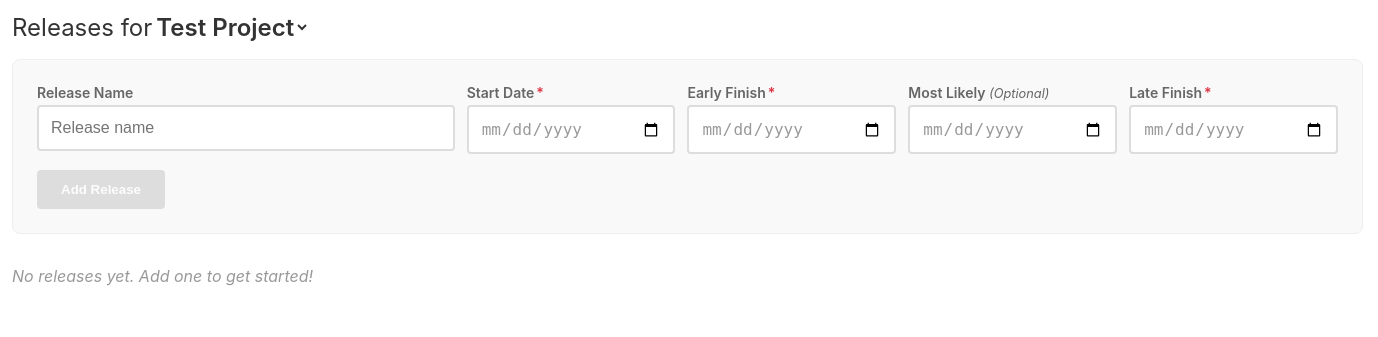
Test: ReleasesTab › work-week warnings (v15.0, v16.3 default Mon–Fri) › shows warnings by default (Mon–Fri) when globalWorkDays absent from seed (v16.3)
The image size is (1378, 337).
Note: Set Start Date to a Saturday (2026-01-03)
Type "2026-01-03" into the date field labelled "Start Date*". click: (571, 130)
box: 467,105 -> 676,154
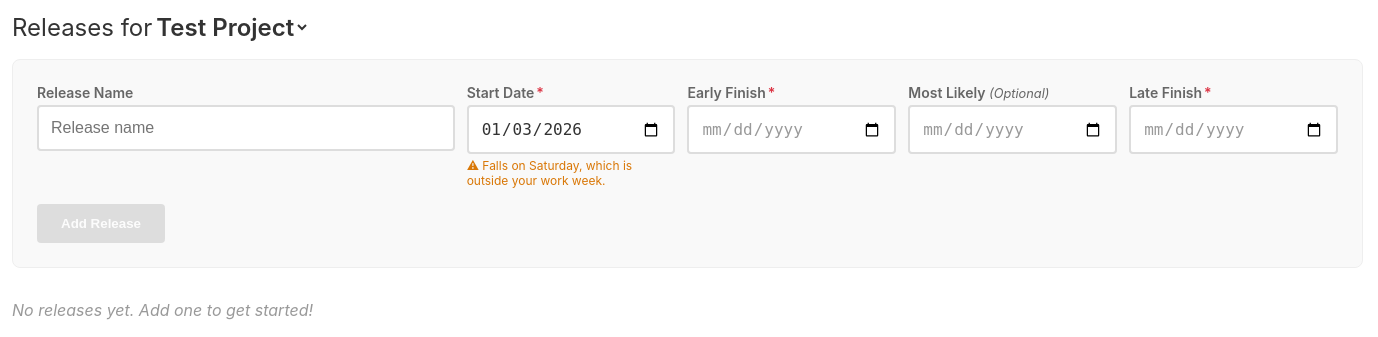
Result: the text "⚠ Falls on Saturday, which is outside your work week." is shown at 467,158 -> 632,188
